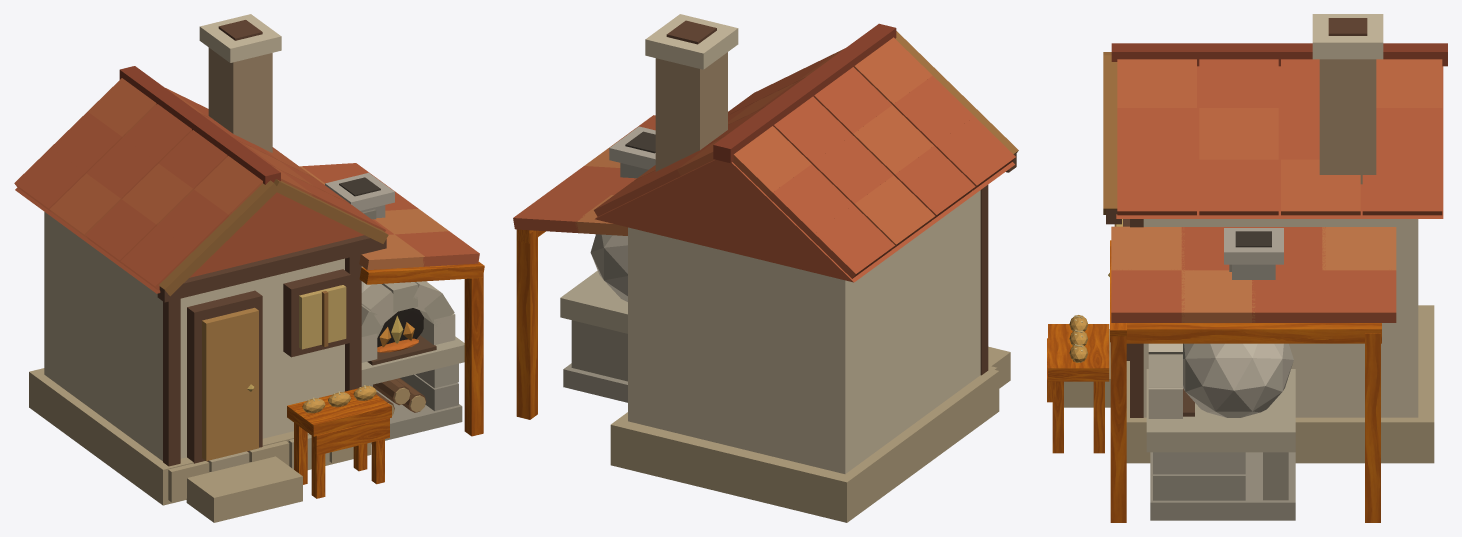
File: bakery.gltf
3 views of the same model, side by side, from view 1: azimuth 30°, elevation 25°; view 2: azimuth 150°, elevation 25°; view 3: azimuth 270°, elevation 25° (orthographic). The views are drawn at different scales.
Visible parts, largest first — view 1: bakery; view 2: bakery; view 3: bakery.
Part boxes in pixels (x1,y1,x2,y2): bakery: [14, 14, 484, 522]; bakery: [513, 14, 1018, 522]; bakery: [1047, 14, 1447, 522].
Bounding box in the file's own units: 1.91 × 2.03 × 1.76.
Materials: 2 (1 with a texture image).
